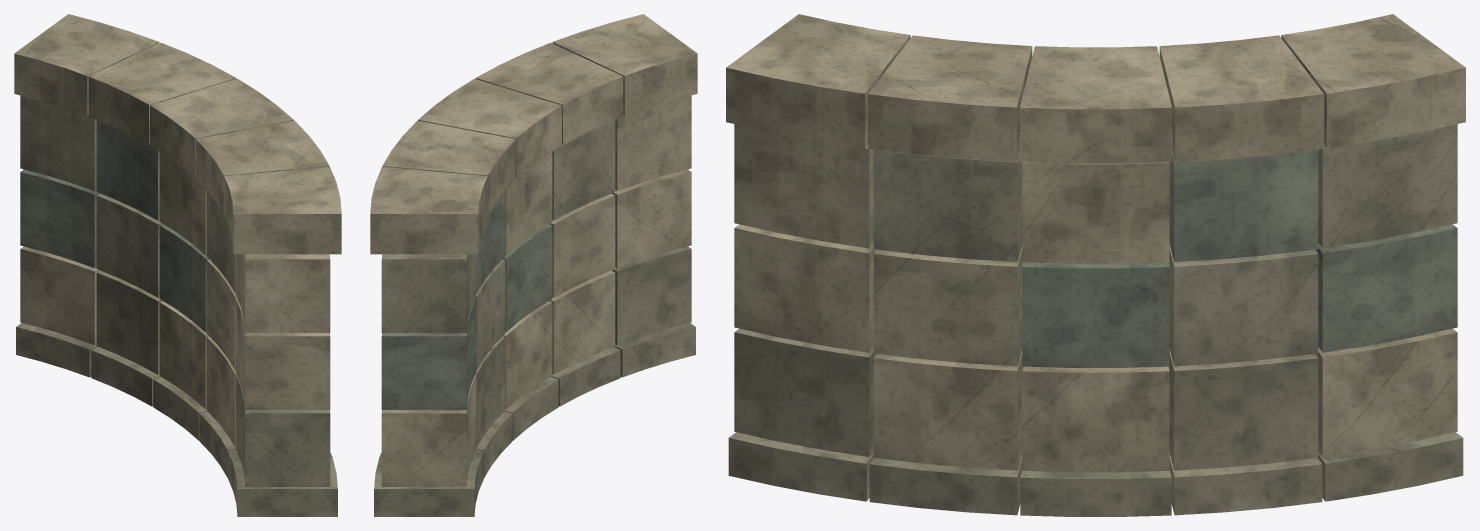
The model's file is b06_arc_60.fbx.
3 views of the same model, side by side, from view 1: azimuth 30°, elevation 25°; view 2: azimuth 150°, elevation 25°; view 3: azimuth 270°, elevation 25° (orthographic). The views are drawn at different scales.
Visible parts, largest first — view 1: b06_arc_60; view 2: b06_arc_60; view 3: b06_arc_60.
Boxes of the visible parts, left/top/right/bottom form: b06_arc_60: left=14, top=14, right=341, bottom=516; b06_arc_60: left=370, top=14, right=697, bottom=516; b06_arc_60: left=726, top=14, right=1465, bottom=516.
Bounding box in the file's own units: 8614 × 28297 × 17300.
